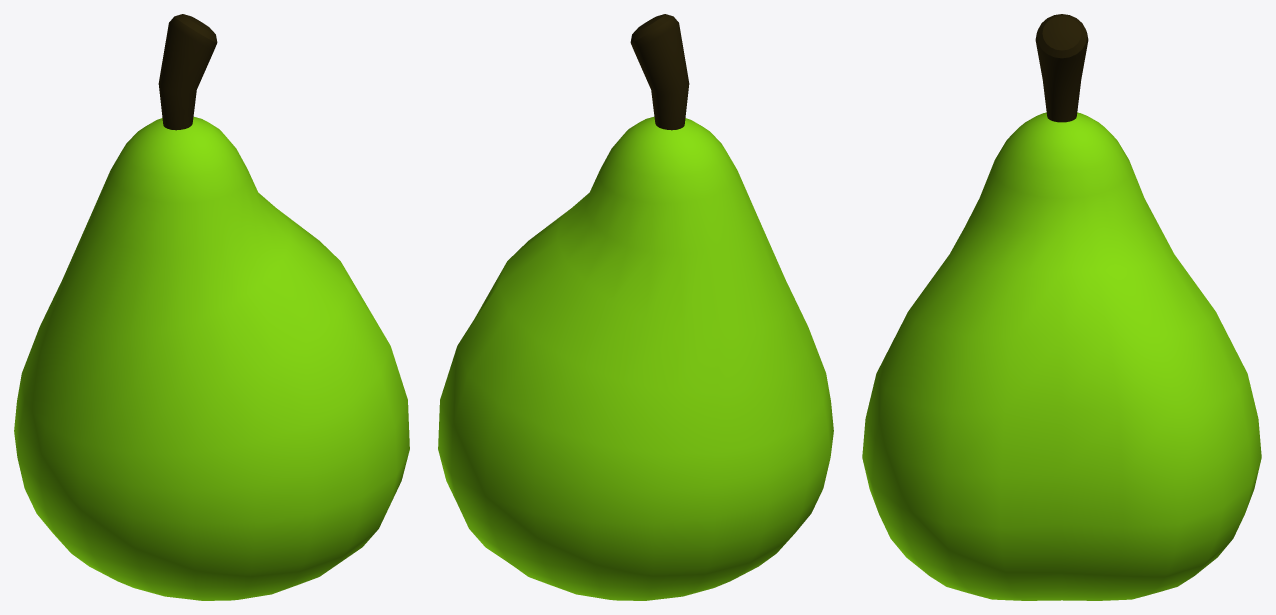
File: Fruit_Pear.fbx
The picture shows the model from 3 angles, left to right: view 1: azimuth 30°, elevation 25°; view 2: azimuth 150°, elevation 25°; view 3: azimuth 270°, elevation 25°; orthographic projection.
Parts seen in each view (by area): view 1: pasted__pSphere7; view 2: pasted__pSphere7; view 3: pasted__pSphere7.
Boxes of the visible parts, box(x1,y1,x2,y2) form: pasted__pSphere7: box(14, 14, 409, 600); pasted__pSphere7: box(438, 14, 833, 600); pasted__pSphere7: box(862, 14, 1261, 600).
Bounding box in the file's own units: 0.339 × 0.5604 × 0.3669.
